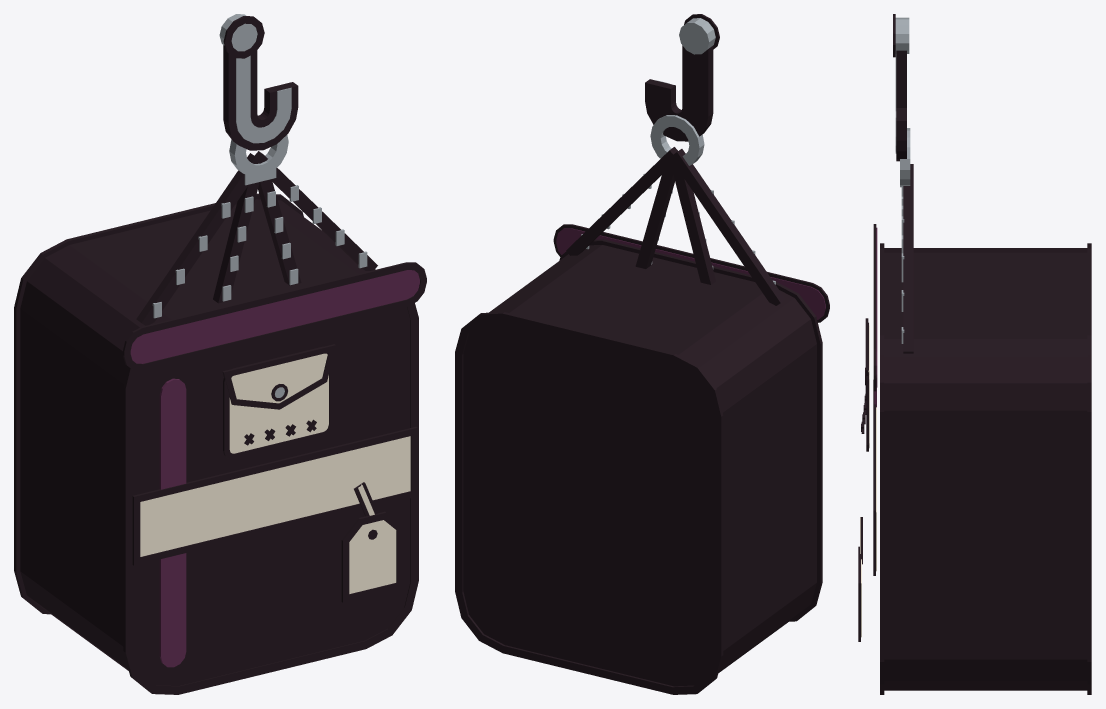
The picture shows the model from 3 angles, left to right: view 1: azimuth 30°, elevation 25°; view 2: azimuth 150°, elevation 25°; view 3: azimuth 270°, elevation 25°; orthographic projection. The views are drawn at different scales.
Visible parts, largest first — view 1: Bag Holders proposal; view 2: Bag Holders proposal; view 3: Bag Holders proposal.
Part boxes in pixels (x1=…): Bag Holders proposal: x1=14, y1=14, x2=426, y2=694; Bag Holders proposal: x1=455, y1=14, x2=829, y2=694; Bag Holders proposal: x1=858, y1=14, x2=1091, y2=694.
Bounding box in the file's own units: 0.5026 × 1.04 × 0.3537.
